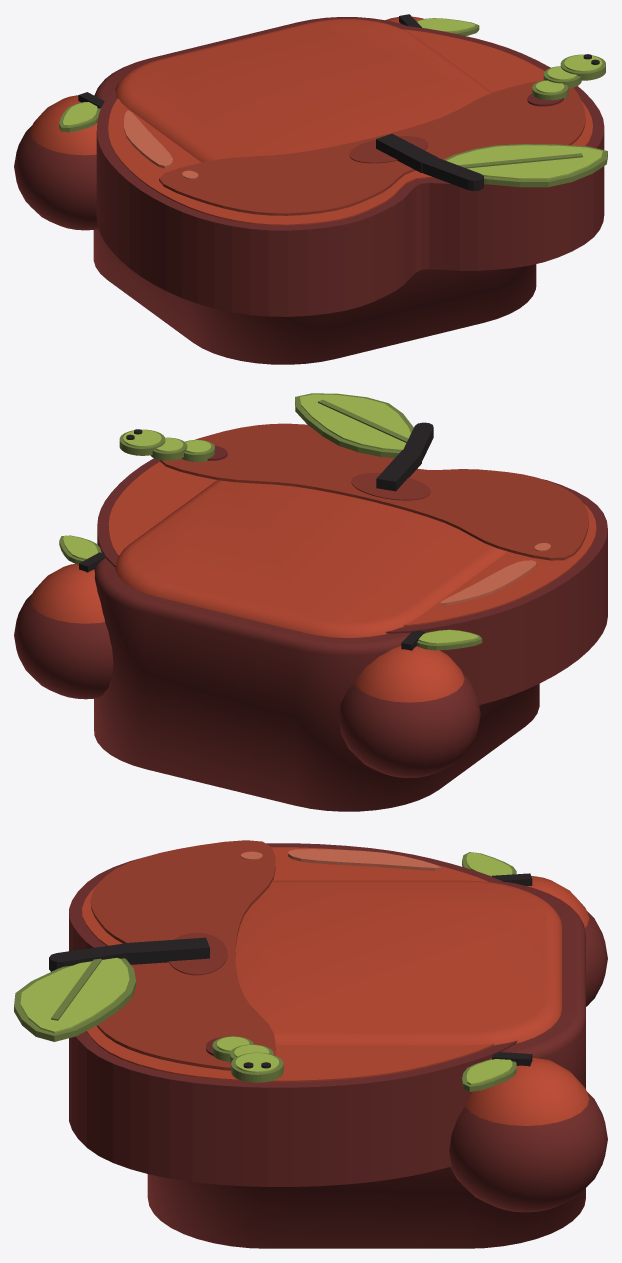
File: body_maca.fbx
3 views of the same model, one above another, from view 1: azimuth 30°, elevation 25°; view 2: azimuth 150°, elevation 25°; view 3: azimuth 270°, elevation 25° (orthographic). The views are drawn at different scales.
Parts seen in each view (by area): view 1: body_maca_corpo, body_maca_mao_esq, body_maca_mao; view 2: body_maca_corpo, body_maca_mao_esq, body_maca_mao; view 3: body_maca_corpo, body_maca_mao, body_maca_mao_esq.
Part boxes in pixels (x1,y1,x2,y2): body_maca_corpo: (93,17,607,364); body_maca_mao_esq: (14,92,104,230); body_maca_mao: (385,14,479,35); body_maca_corpo: (94,393,607,811); body_maca_mao_esq: (338,629,482,777); body_maca_mao: (14,535,113,699); body_maca_corpo: (14,840,585,1248); body_maca_mao: (449,1052,607,1212); body_maca_mao_esq: (462,852,607,1006).
Size of the model in its own units: 5.62 by 2.22 by 5.42.
1 material, 1 textured.
